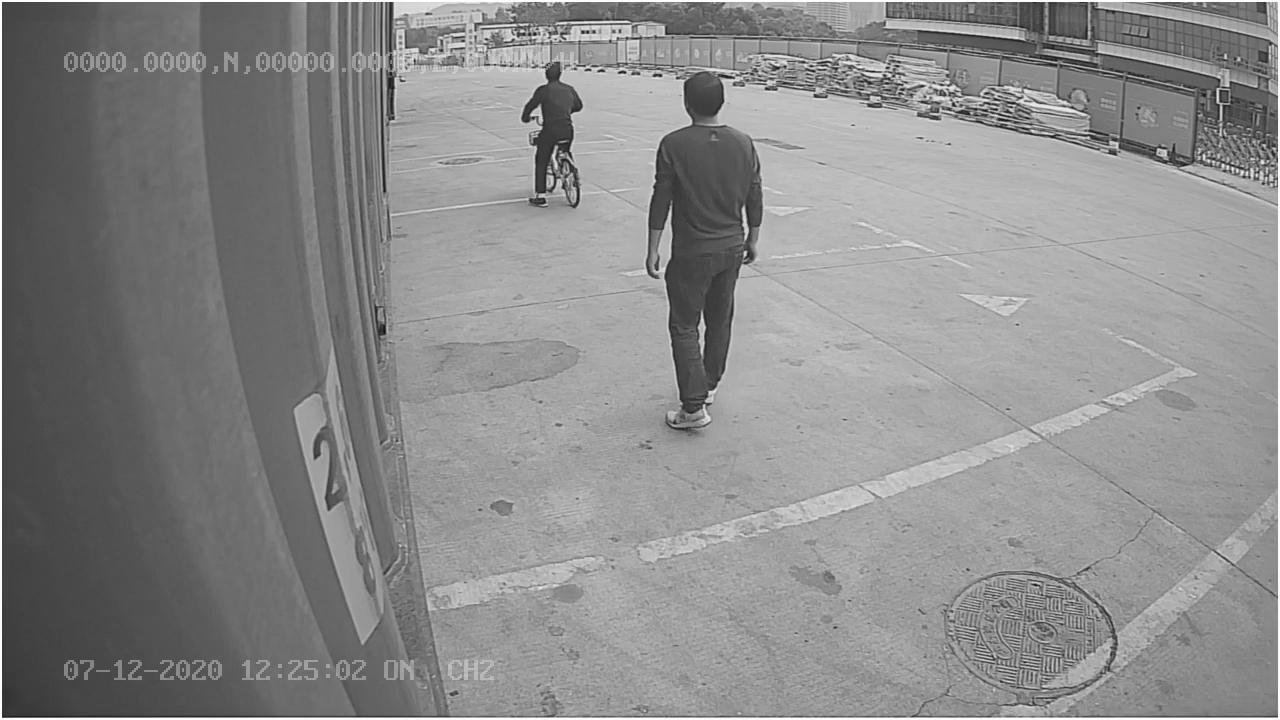person: (640, 67, 766, 436)
